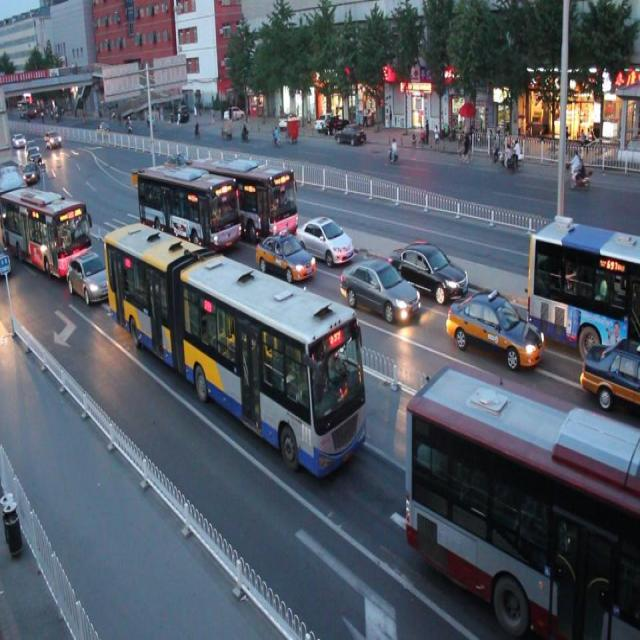car: (445, 292, 544, 378), (338, 257, 417, 330), (388, 241, 468, 308), (580, 336, 640, 408), (294, 213, 352, 271), (254, 231, 314, 286), (67, 251, 112, 304)
van: (103, 220, 366, 482), (406, 365, 640, 640), (528, 218, 640, 350), (137, 161, 240, 257), (192, 153, 298, 245), (1, 184, 90, 274)
